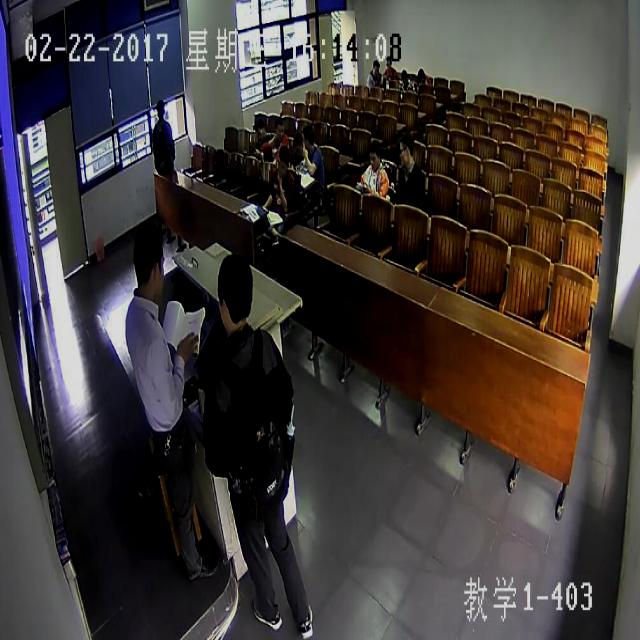face_nomask: (144, 253, 172, 293), (397, 144, 411, 162), (368, 155, 381, 173), (400, 135, 418, 145)
head_nohelmet: (219, 256, 254, 325), (135, 192, 166, 256), (365, 140, 386, 155), (152, 97, 167, 118), (281, 144, 290, 172), (304, 124, 314, 141)
person: (212, 259, 328, 624), (124, 218, 200, 572), (147, 90, 184, 185), (391, 134, 429, 210), (263, 153, 303, 209), (359, 138, 389, 202), (297, 136, 325, 180), (270, 123, 292, 156)
